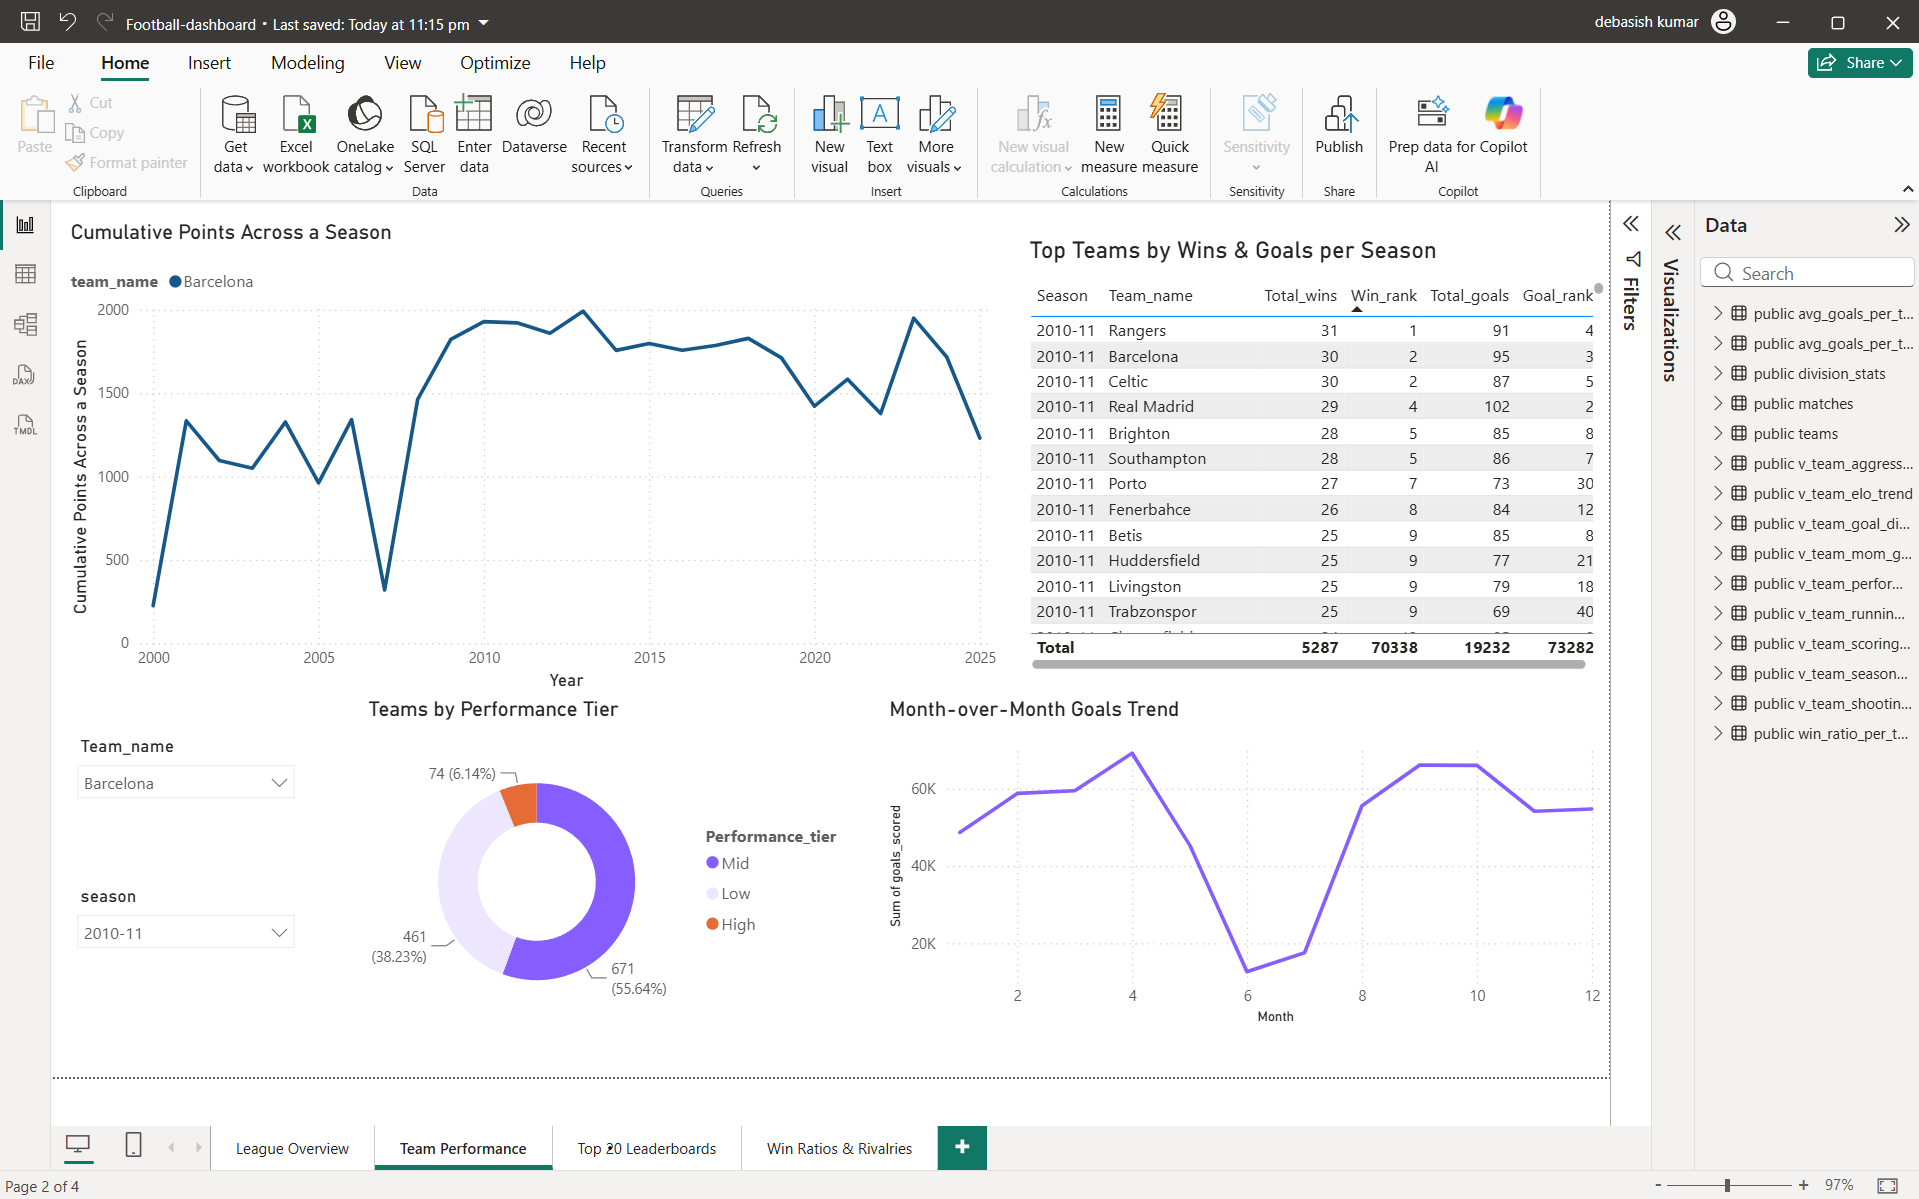

The page's visual inventory and layout, read from the dashboard file:
{"tool":"powerbi","page":{"name":"Team Performance","canvas":[1280,720],"ordinal":1},"visuals":[{"type":"lineChart","title":"Cumulative Points Across a Season","fields":{"Category":["public v_team_running_totals.full_date.Variation.Date Hierarchy.Year"],"Series":["public v_team_running_totals.team_name"],"Y":["Sum(public v_team_running_totals.cumulative_points)"]},"box":[11,16.5,769.8,391.1],"z":1000},{"type":"tableEx","title":"Top Teams by Wins & Goals per Season","fields":{"Values":["public v_team_season_ranking.season","public v_team_season_ranking.team_name","Sum(public v_team_season_ranking.total_wins)","Sum(public v_team_season_ranking.win_rank)","Sum(public v_team_season_ranking.total_goals)","Sum(public v_team_season_ranking.goal_rank)"]},"box":[798.6,30.2,481.6,360.9],"z":2000},{"type":"donutChart","title":"Teams by Performance Tier","fields":{"Category":["public v_team_performance_tier.performance_tier"],"Y":["CountNonNull(public v_team_performance_tier.team_name)"]},"box":[255.2,407.5,408.9,274.4],"z":4000},{"type":"lineChart","title":"Month-over-Month Goals Trend","fields":{"Category":["public v_team_mom_goals.month"],"Y":["Sum(public v_team_mom_goals.goals_scored)"]},"box":[683.4,407.5,596.9,274.4],"z":5000},{"type":"slicer","fields":{"Values":["public v_team_running_totals.team_name"]},"box":[11,435,199,89.2],"z":5001},{"type":"slicer","fields":{"Values":["public v_team_season_ranking.season"]},"box":[11,558.5,199,123.5],"z":5002}]}

Visuals, with their boxes on the page's 1280x720 design canvas (x1, y1, x2, y2). These are canvas units, not pixel positions in the 1919x1199 screenshot, which may show the page scaled, cropped or inside an application window:
"Cumulative Points Across a Season" lineChart: box=[11, 16, 781, 408]
"Top Teams by Wins & Goals per Season" tableEx: box=[799, 30, 1280, 391]
"Teams by Performance Tier" donutChart: box=[255, 408, 664, 682]
"Month-over-Month Goals Trend" lineChart: box=[683, 408, 1280, 682]
slicer - public v_team_running_totals.team_name: box=[11, 435, 210, 524]
slicer - public v_team_season_ranking.season: box=[11, 558, 210, 682]
